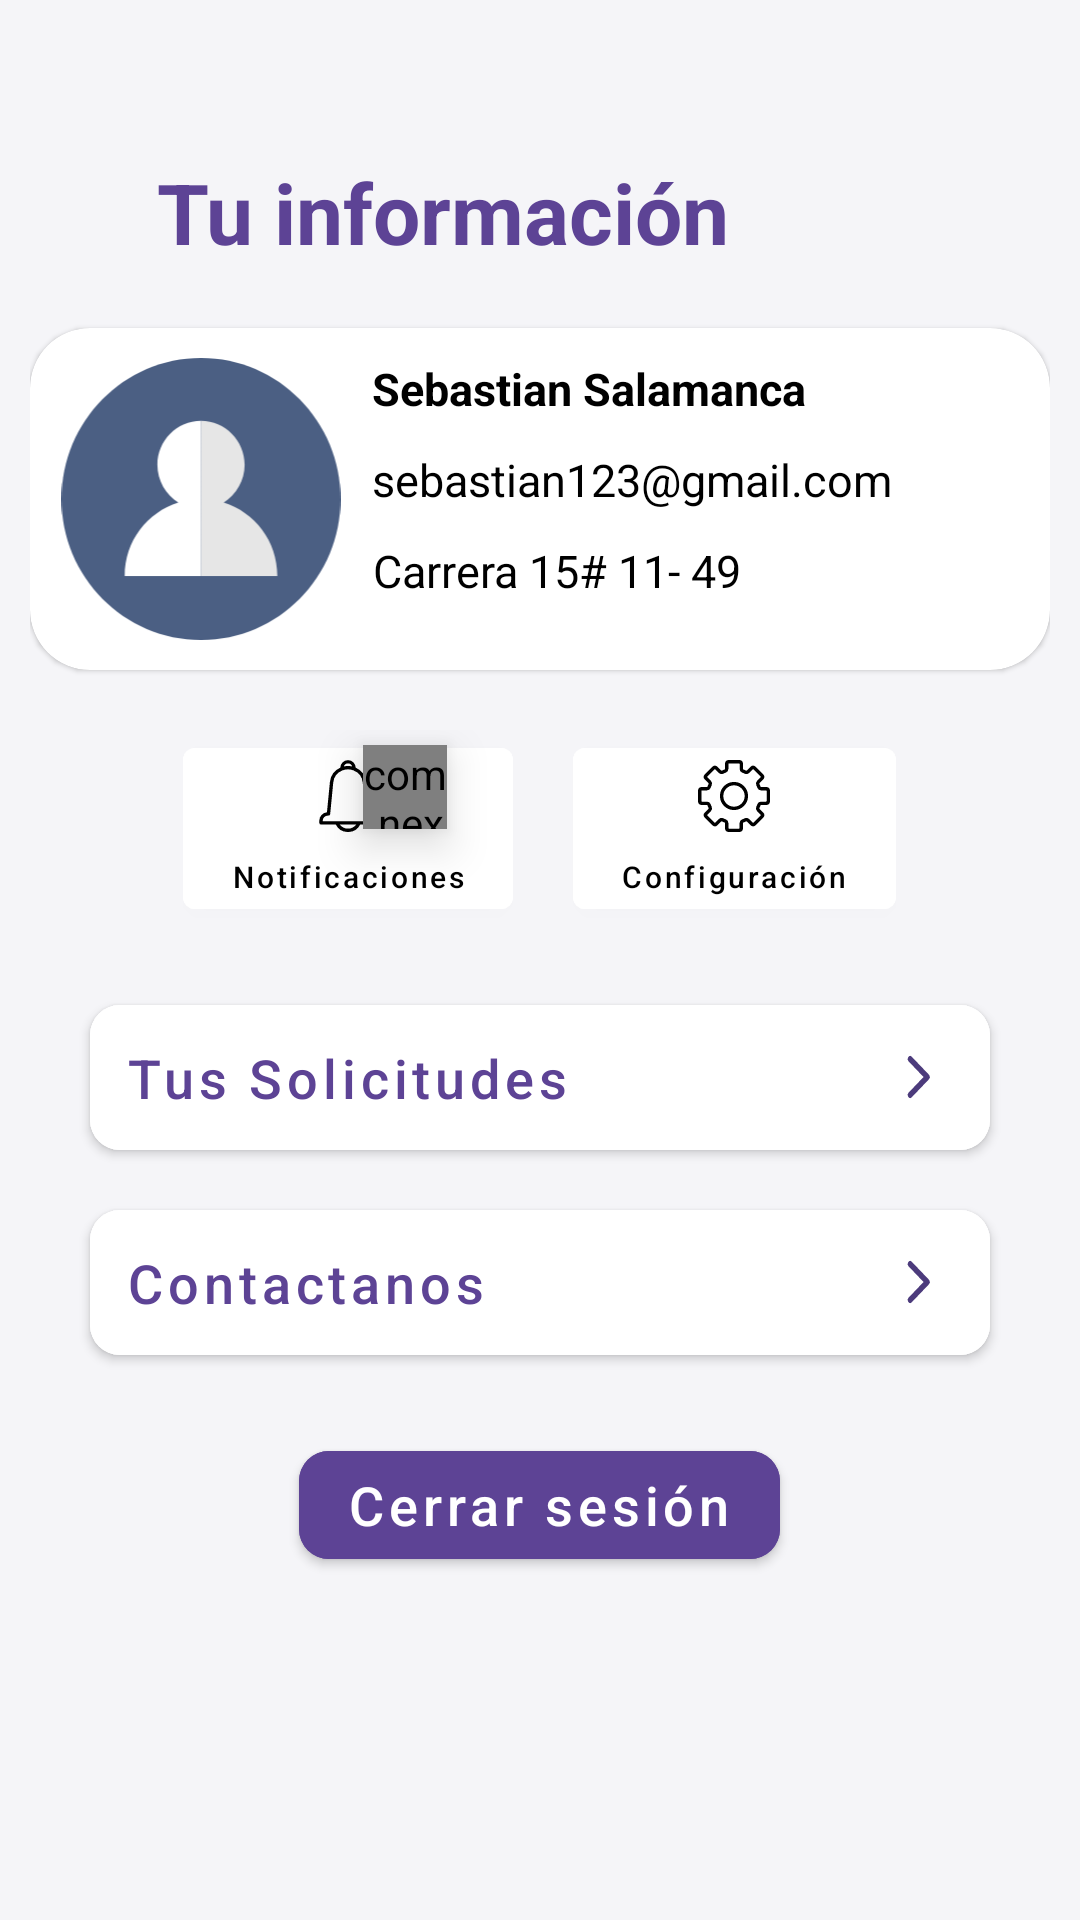

Named icons in this screenshot (1080×1920) and their centers, [x,y]:
user: [201,499]
